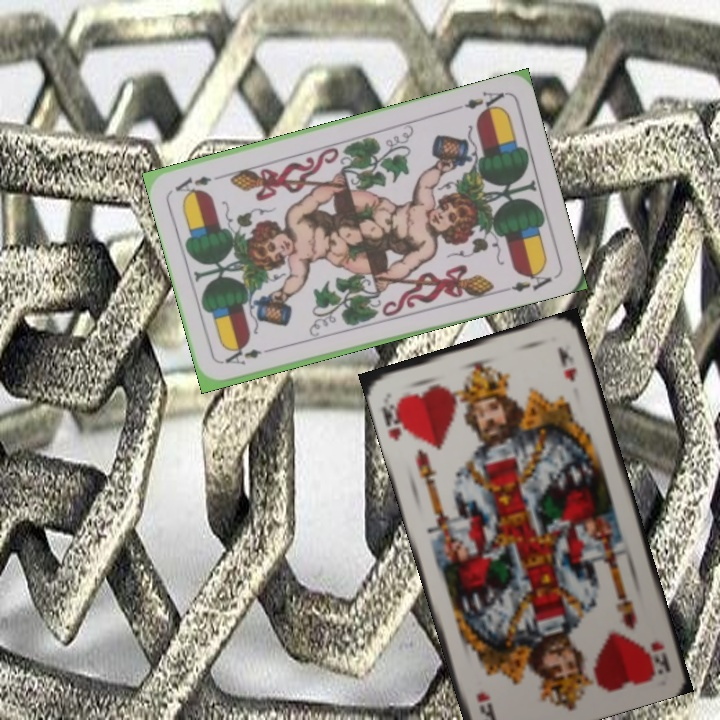EA: (450, 87, 507, 117), (218, 344, 264, 368)
HK: (377, 394, 412, 445), (645, 637, 673, 675)
